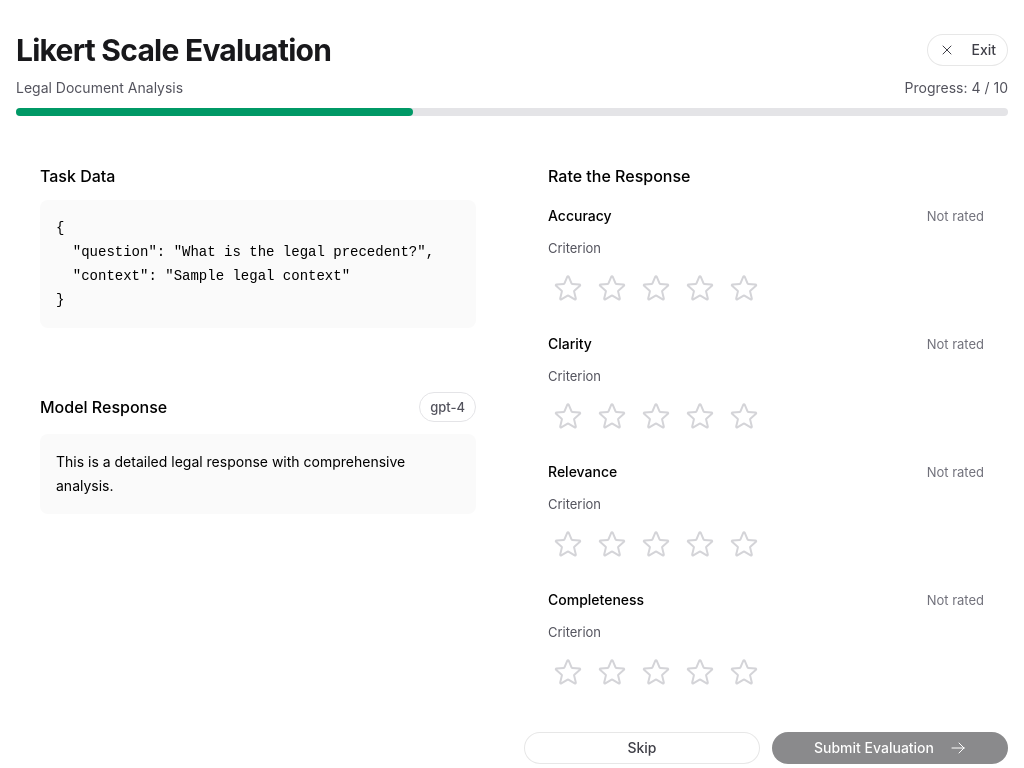
Scenario: LikertEvaluation › star rating interaction › allows rating a dimension
Check: the text "Accuracy" is shown, box [548, 204, 612, 228]
Click the button named "Rate 4 stars" below "Accuracy" at (700, 288), box [680, 268, 720, 308]
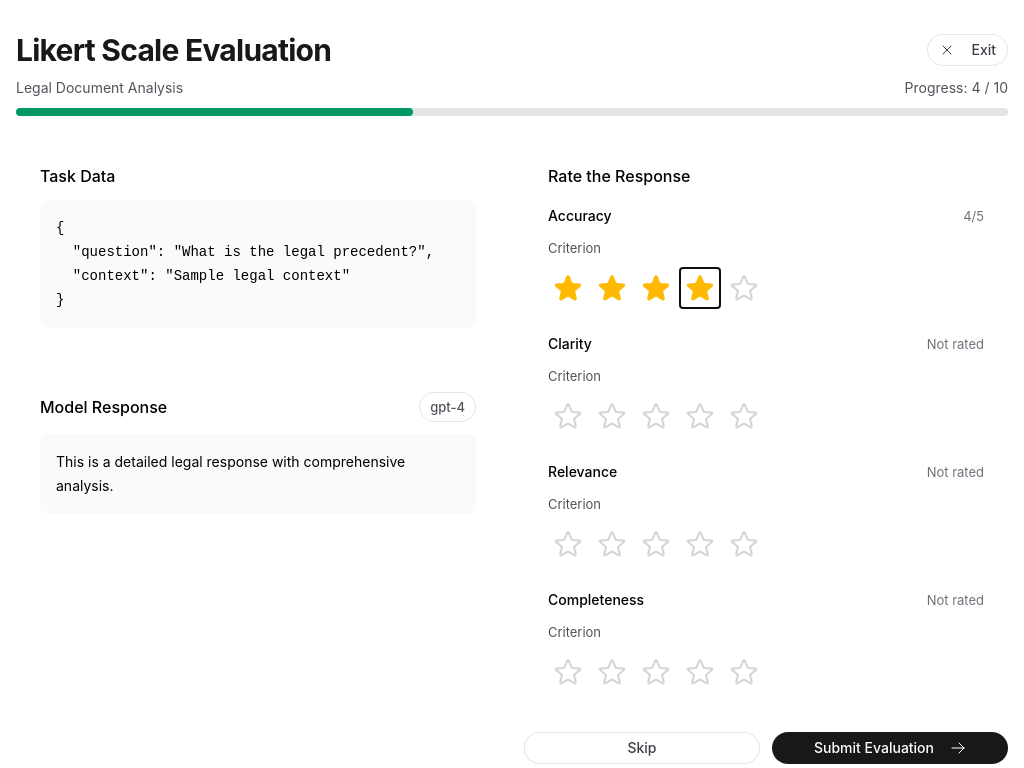
Check: the text "4/5" is shown, box [963, 204, 984, 228]
